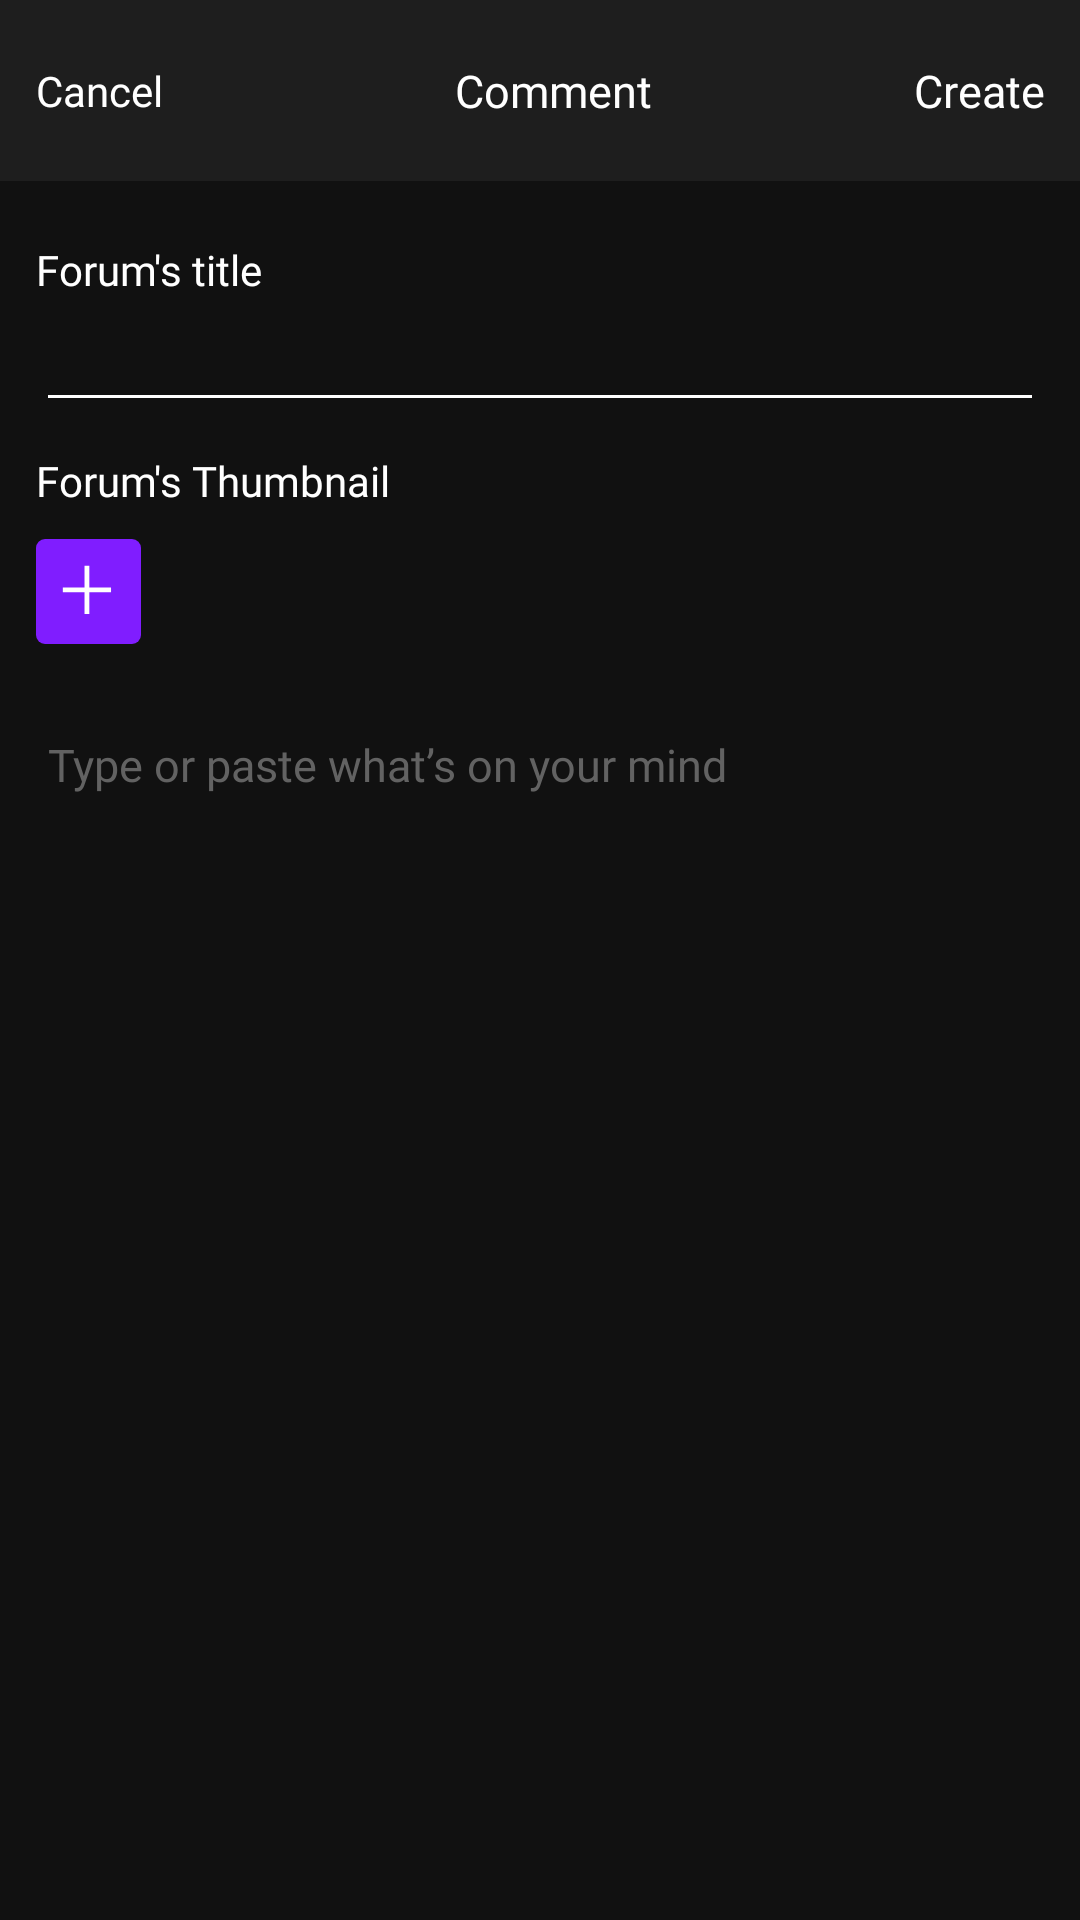

Named icons in this screenshot (1080×1920) and their bounding boxes, {"x1": x1, "y1": y1, "x2": x2, "y2": y2}:
add: {"x1": 62, "y1": 565, "x2": 111, "y2": 614}
